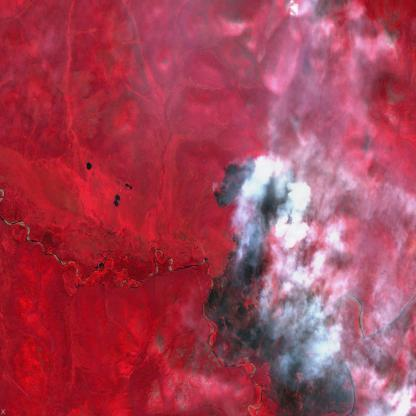fire: (210, 148, 308, 243), (252, 261, 269, 285)
